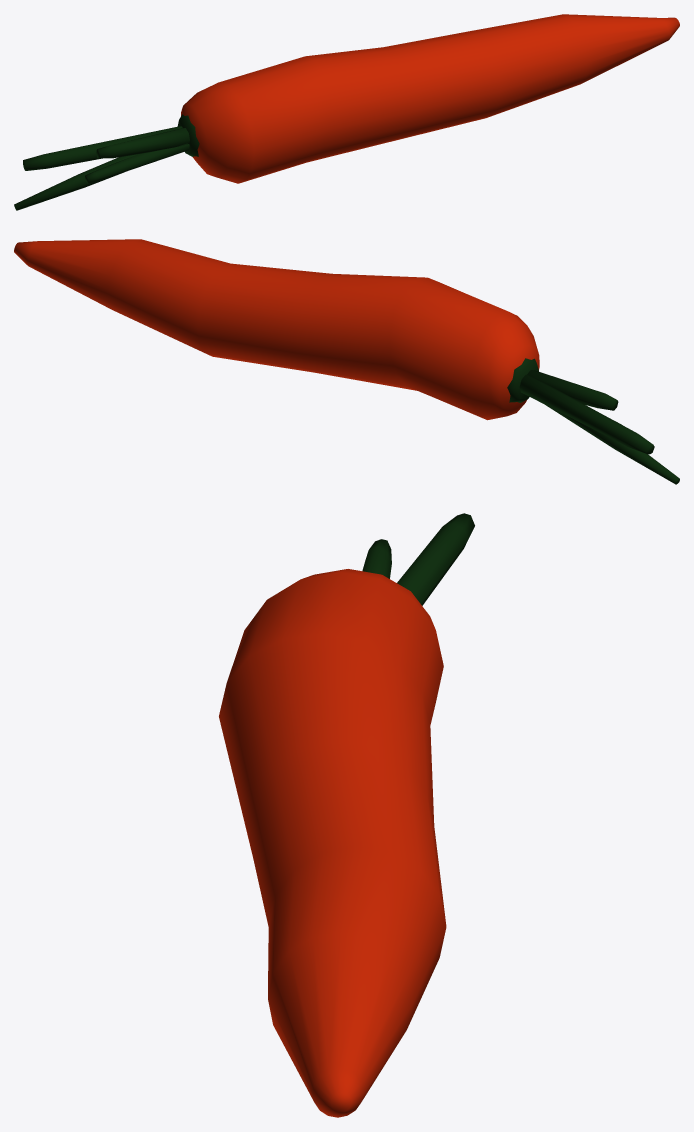
Rendered from carotte.FBX.
The picture shows the model from 3 angles, top to bottom: view 1: azimuth 30°, elevation 25°; view 2: azimuth 150°, elevation 25°; view 3: azimuth 270°, elevation 25°; orthographic projection. The views are drawn at different scales.
Visible parts, largest first — view 1: carotte, queueCarotte; view 2: carotte, queueCarotte; view 3: carotte, queueCarotte.
Boxes of the visible parts, x1=… form: carotte: x1=181, y1=14, x2=679, y2=183; queueCarotte: x1=14, y1=114, x2=199, y2=210; carotte: x1=14, y1=239, x2=539, y2=420; queueCarotte: x1=507, y1=358, x2=679, y2=484; carotte: x1=219, y1=569, x2=446, y2=1117; queueCarotte: x1=362, y1=513, x2=474, y2=605.
Size of the model in its own units: 26.8 by 4.15 by 4.64.
